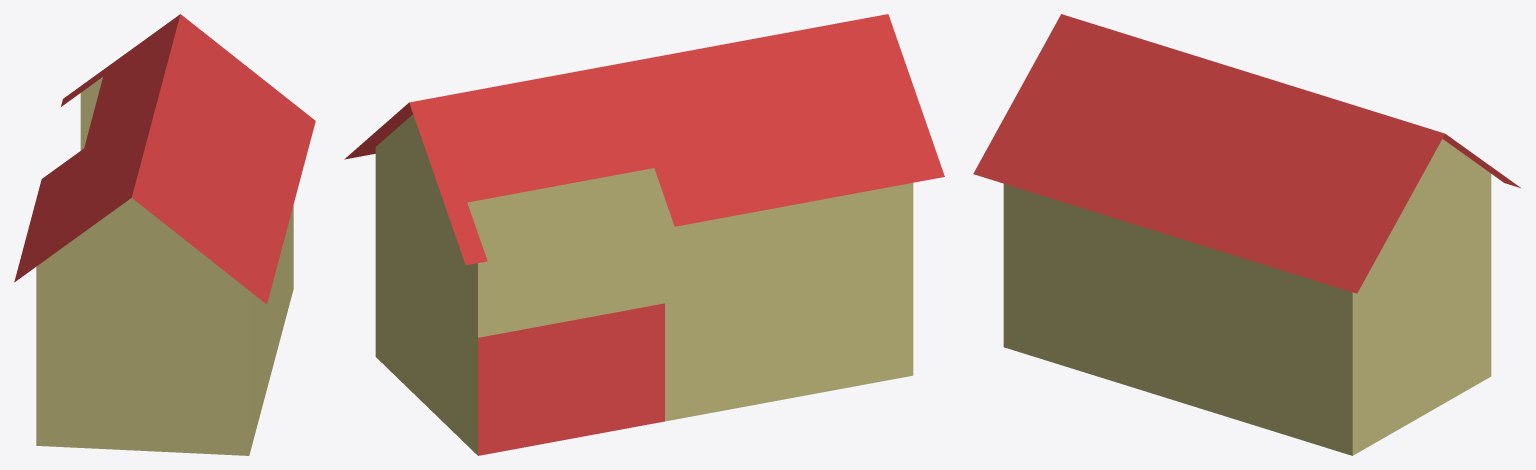
3 views of the same model, side by side, from view 1: azimuth 30°, elevation 25°; view 2: azimuth 150°, elevation 25°; view 3: azimuth 270°, elevation 25° (orthographic). The views are drawn at different scales.
Size of the model in its own units: 23.16 by 25.09 by 14.37.
